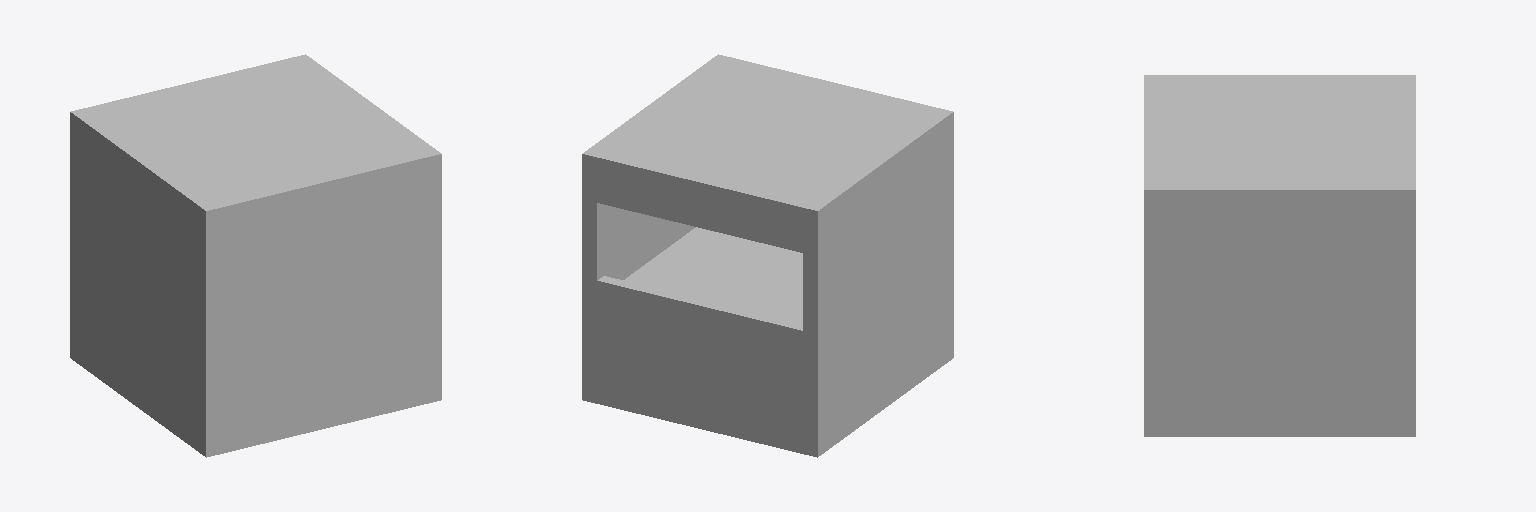
Rendered from crystalizer.obj.
3 renders of one model, left to right at view 1: azimuth 30°, elevation 25°; view 2: azimuth 150°, elevation 25°; view 3: azimuth 270°, elevation 25°, orthographic.
Visible parts, largest first — view 1: Cube.001_Cube.000; view 2: Cube.001_Cube.000; view 3: Cube.001_Cube.000.
Boxes of the visible parts, <box> form: Cube.001_Cube.000: <box>70,54,441,457</box>; Cube.001_Cube.000: <box>582,54,953,457</box>; Cube.001_Cube.000: <box>1144,75,1415,436</box>.
Size of the model in its own units: 1 by 1 by 1.